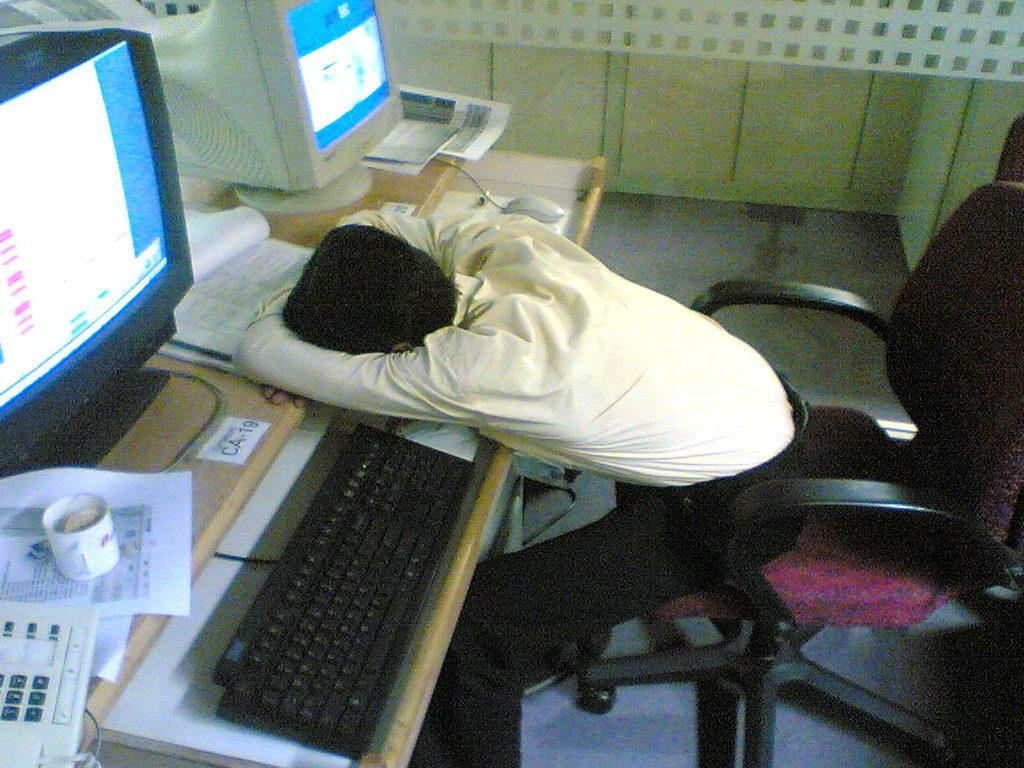Computer-keyboard: (204, 421, 476, 761), (0, 599, 101, 767)
